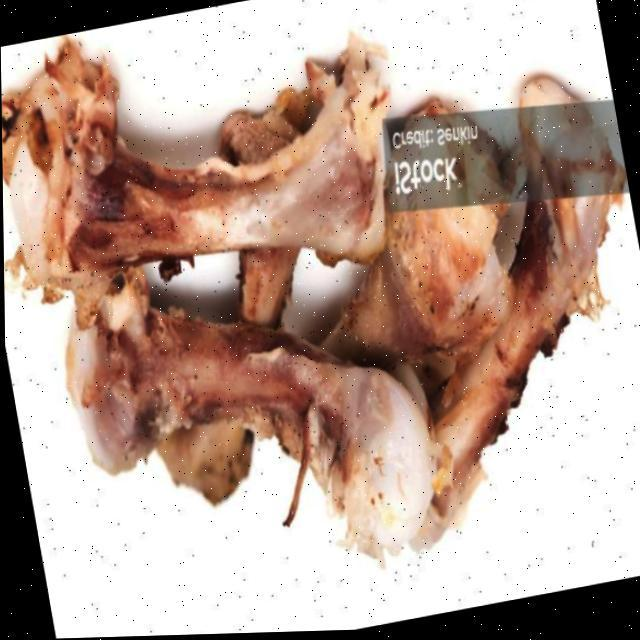Wet Waste: (56, 260, 486, 584), (382, 52, 640, 508), (26, 67, 420, 346)
